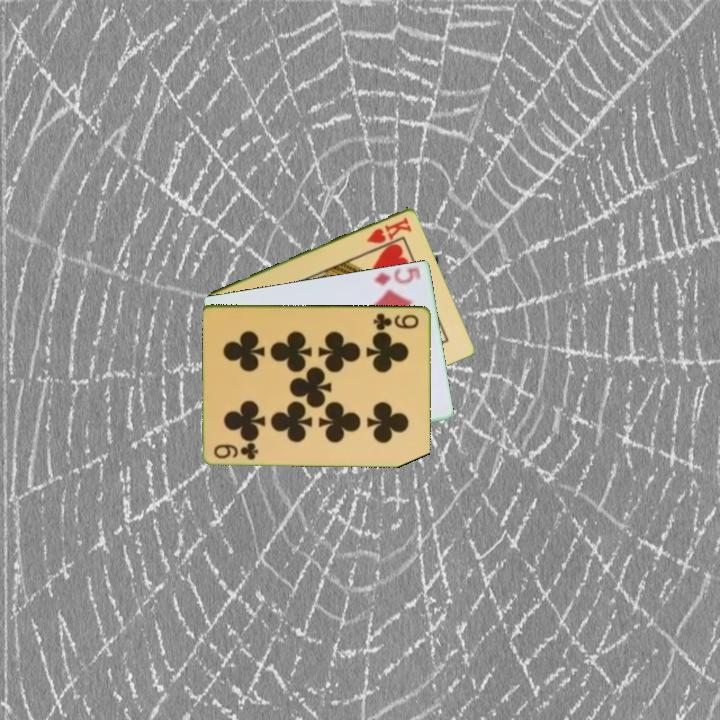5d: (370, 263, 422, 289)
9c: (211, 439, 261, 462), (370, 309, 422, 331)
Kh: (363, 213, 415, 246)
